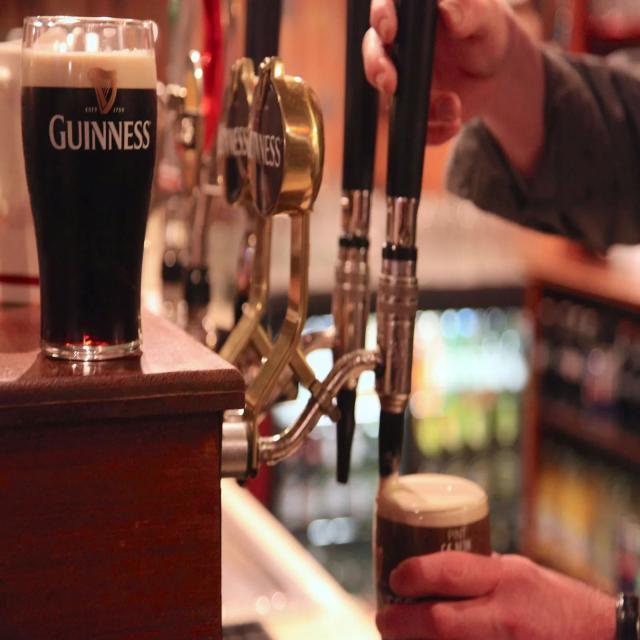too_high_glass: (25, 9, 154, 362)
